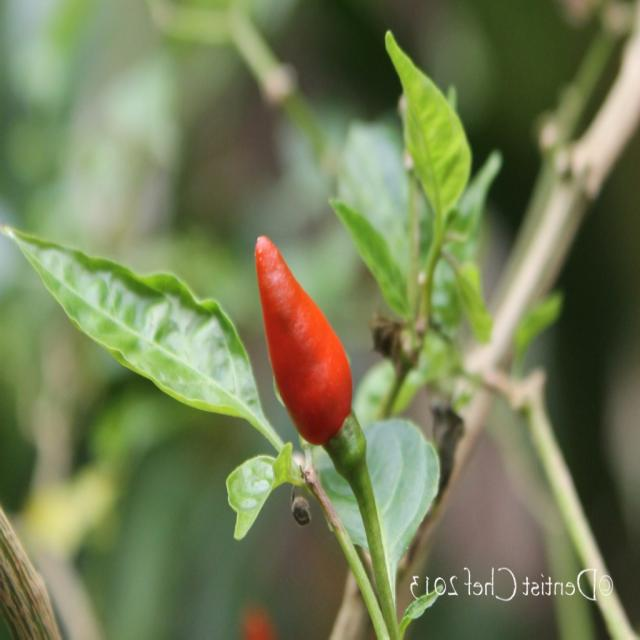Chilli Pepper: (233, 223, 375, 512)
